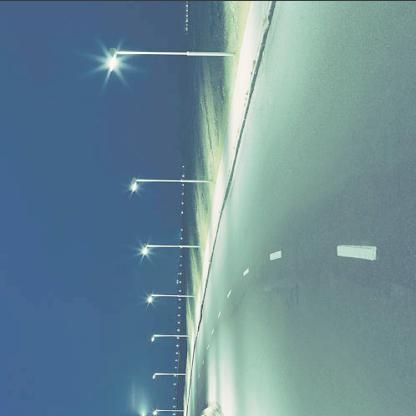on: (117, 232, 168, 416), (94, 29, 135, 109), (101, 165, 157, 212)
